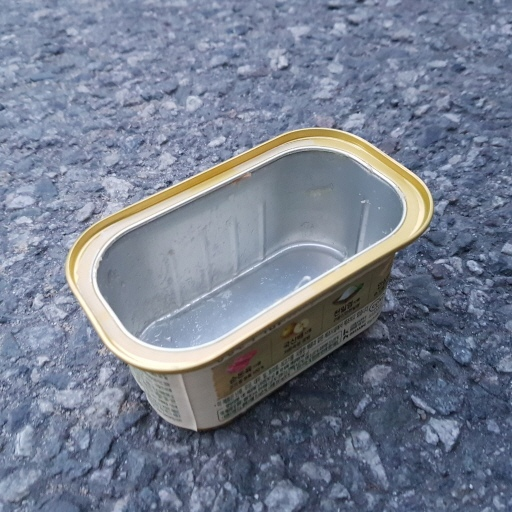Metal_2: (67, 126, 437, 429)
